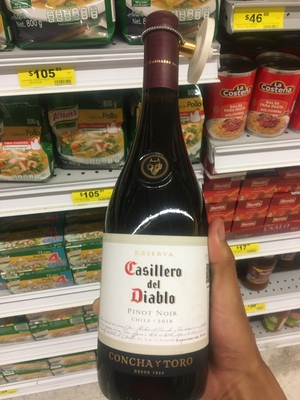casillero del diablo pinot noir: (98, 18, 226, 400)
